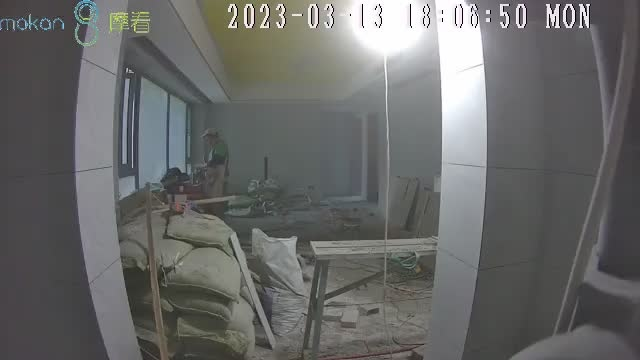people: (201, 129, 230, 218)
window: (117, 64, 203, 201)
